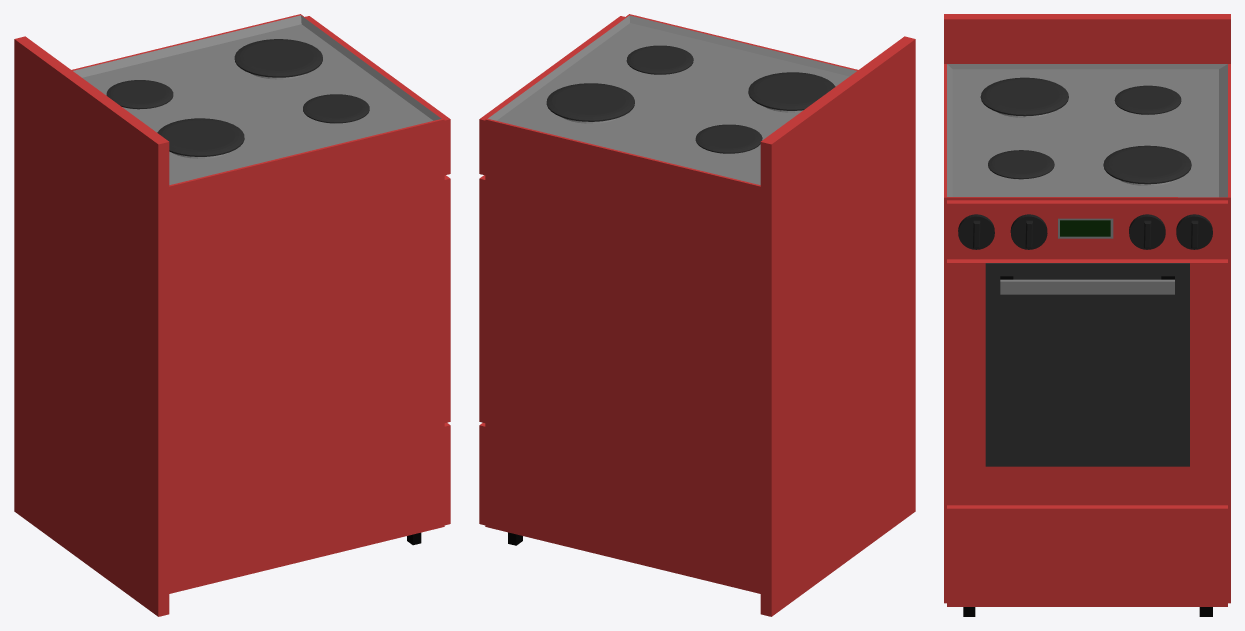
The model's file is stove-greybox 1.fbx.
The picture shows the model from 3 angles, left to right: view 1: azimuth 30°, elevation 25°; view 2: azimuth 150°, elevation 25°; view 3: azimuth 270°, elevation 25°; orthographic projection.
Visible parts, largest first — view 1: stove, Cylinder; view 2: stove, Cylinder; view 3: stove, Cylinder, buttons.
Part boxes in pixels (x1,y1,x2,y2): stove: (14,14,450,616); Cylinder: (106,39,369,158); stove: (479,14,915,616); Cylinder: (546,45,835,153); stove: (944,14,1230,616); Cylinder: (980,77,1191,185); buttons: (958,214,1212,249).
Bounding box in the file's own units: 251 × 369 × 204.
